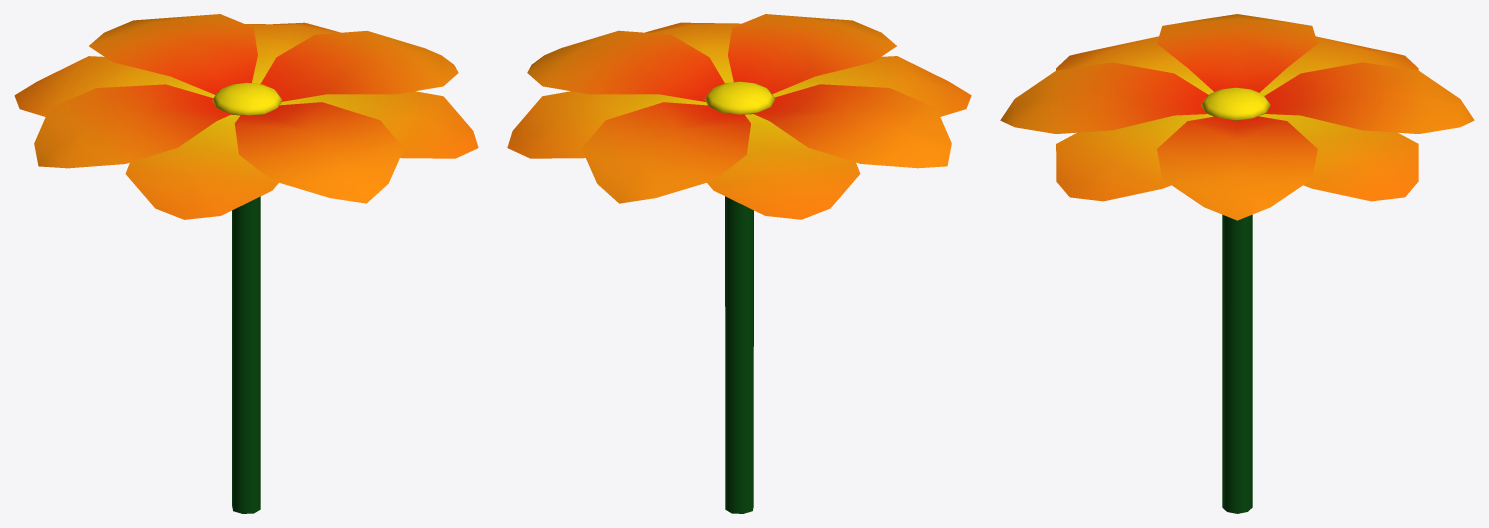
Rendered from Little_Flower_size2.FBX.
3 renders of one model, left to right at view 1: azimuth 30°, elevation 25°; view 2: azimuth 150°, elevation 25°; view 3: azimuth 270°, elevation 25°, orthographic.
Visible parts, largest first — view 1: Little_flower_size2; view 2: Little_flower_size2; view 3: Little_flower_size2.
Part boxes in pixels (x1,y1,x2,y2): Little_flower_size2: (14, 14, 478, 513); Little_flower_size2: (507, 14, 971, 513); Little_flower_size2: (1000, 14, 1474, 513).
Size of the model in its own units: 6.16 by 6 by 6.17.
